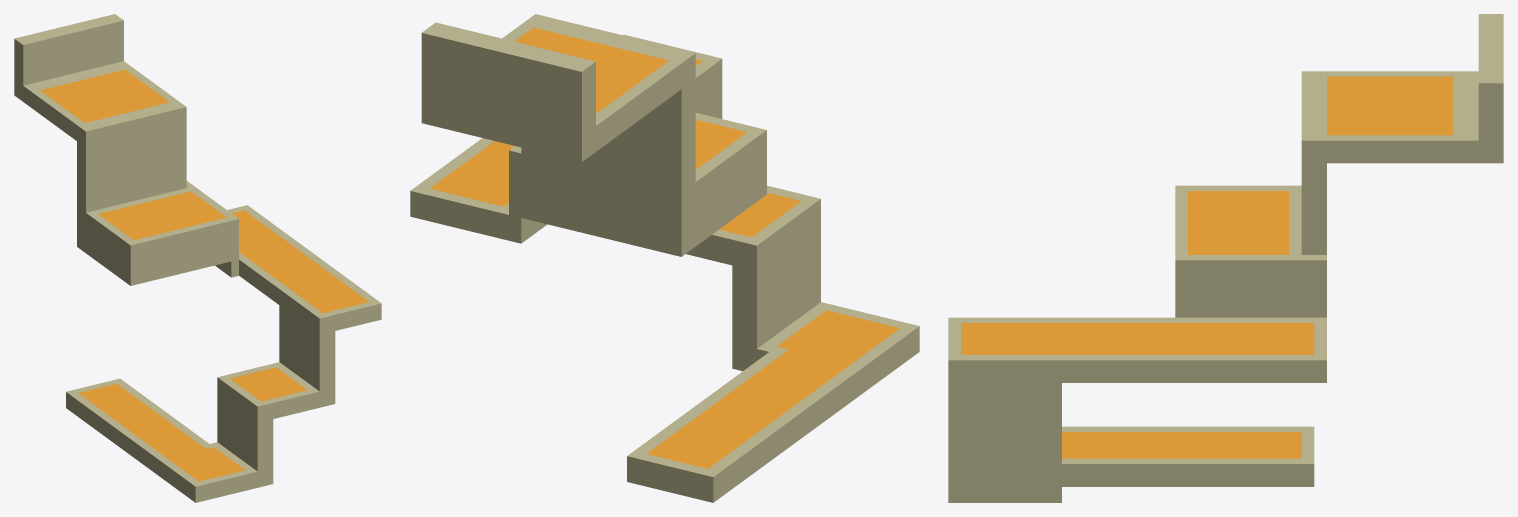
Rendered from monu9-stair.dae.
3 renders of one model, left to right at view 1: azimuth 30°, elevation 25°; view 2: azimuth 150°, elevation 25°; view 3: azimuth 270°, elevation 25°, orthographic. The views are drawn at different scales.
Visible parts, largest first — view 1: defaultobject; view 2: defaultobject; view 3: defaultobject.
Part boxes in pixels (<box>): defaultobject: <box>14,14,381,502</box>; defaultobject: <box>410,14,919,502</box>; defaultobject: <box>948,14,1503,502</box>.
Size of the model in its own units: 24 by 39 by 44.
Materials: 1 (1 with a texture image).
